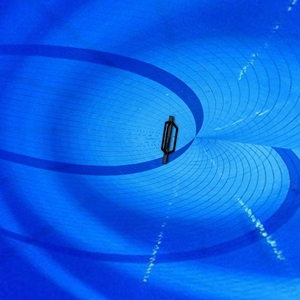submarine: (158, 111, 180, 170)
